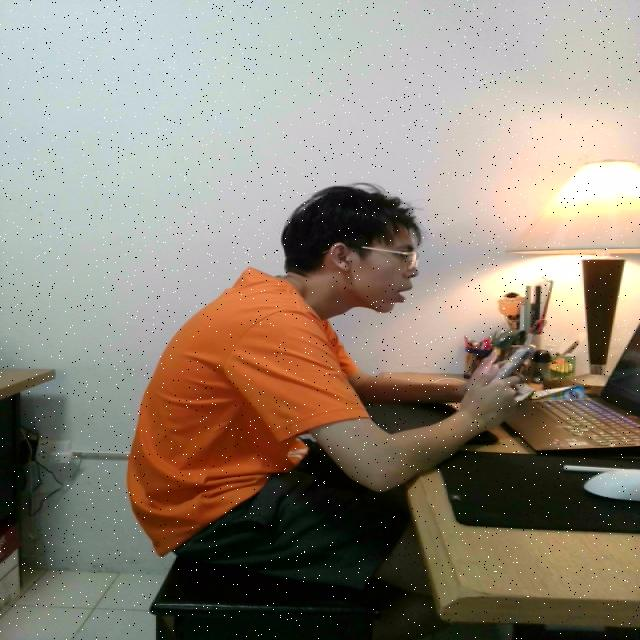Bad: (120, 182, 437, 600)
